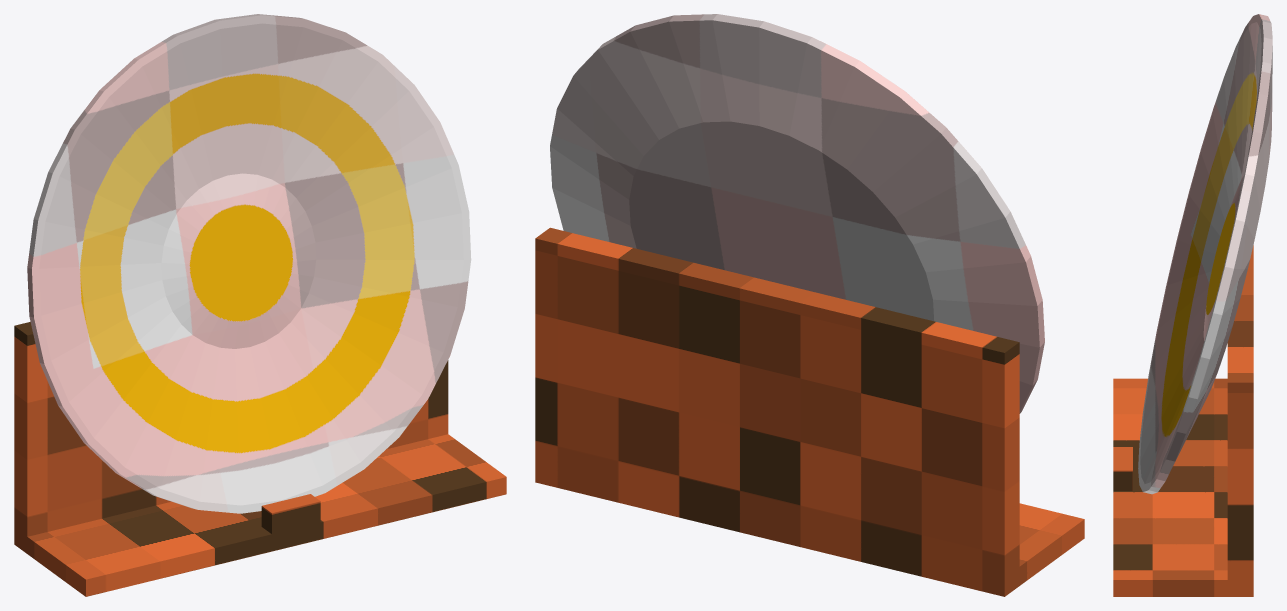
Rendered from plateDecoration.fbx.
3 renders of one model, left to right at view 1: azimuth 30°, elevation 25°; view 2: azimuth 150°, elevation 25°; view 3: azimuth 270°, elevation 25°, orthographic. The views are drawn at different scales.
Parts seen in each view (by area): view 1: Place, PlateHolder; view 2: PlateHolder, Place; view 3: Place, PlateHolder.
Part boxes in pixels (x1,y1,x2,y2): Place: (27, 14, 471, 513); PlateHolder: (14, 322, 506, 596); PlateHolder: (535, 227, 1084, 596); Place: (550, 14, 1044, 413); Place: (1138, 14, 1272, 494); PlateHolder: (1113, 245, 1253, 596).
Bounding box in the file's own units: 200 × 206 × 64.84.
3 materials, 3 textured.
